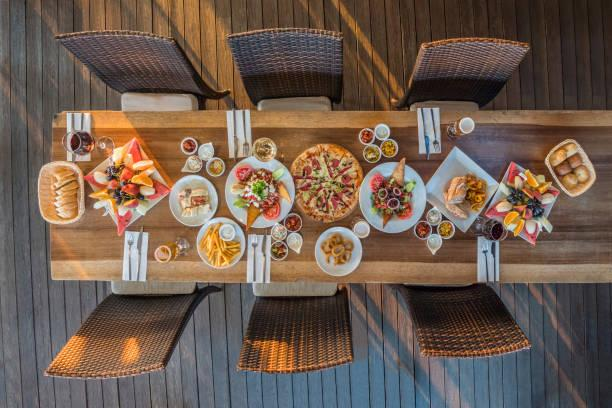Braised Crucian Carp: (85, 136, 172, 233), (423, 146, 498, 232), (490, 158, 558, 248), (288, 144, 361, 222), (225, 156, 295, 228), (356, 160, 425, 232), (35, 160, 84, 223), (195, 217, 245, 270), (168, 174, 218, 225), (313, 226, 362, 277)
